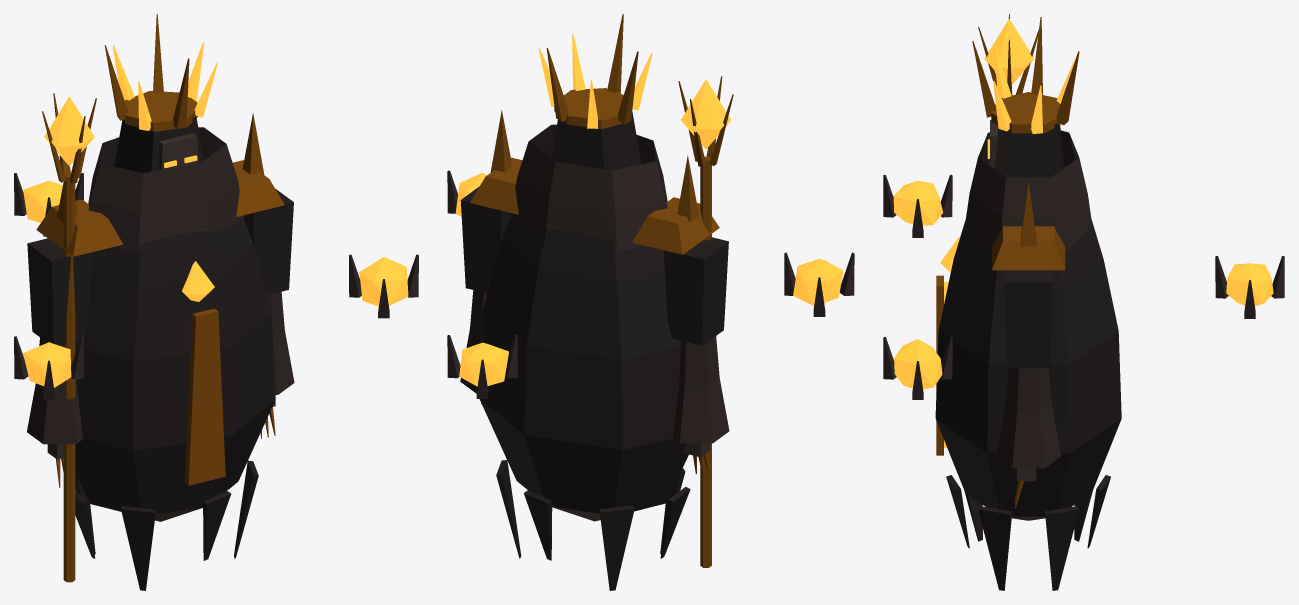
The model's file is ArautoDasCinzas.fbx.
3 renders of one model, left to right at view 1: azimuth 30°, elevation 25°; view 2: azimuth 150°, elevation 25°; view 3: azimuth 270°, elevation 25°, orthographic.
Visible parts, largest first — view 1: Body, ArmR, Head, ArmL, Orb2, Orb1, Orb0; view 2: Body, ArmR, Head, ArmL, Orb1, Orb0, Orb2; view 3: Body, ArmL, Head, Orb2, Orb1, Orb0, ArmR.
Part boxes in pixels (box(x1,y1,x2,y2)): Body: box(36, 112, 284, 590); ArmR: box(27, 93, 96, 582); Head: box(104, 14, 217, 172); ArmL: box(243, 188, 294, 438); Orb2: box(349, 254, 418, 318); Orb1: box(14, 336, 83, 400); Orb0: box(14, 173, 83, 236); Body: box(470, 110, 719, 590); ArmR: box(663, 76, 733, 567); Head: box(538, 14, 652, 170); ArmL: box(460, 186, 511, 403); Orb1: box(784, 252, 854, 316); Orb0: box(447, 335, 517, 398); Orb2: box(447, 170, 486, 216); Body: box(935, 130, 1121, 590); ArmL: box(996, 270, 1061, 508); Head: box(972, 17, 1079, 177); Orb2: box(883, 337, 952, 399); Orb1: box(883, 174, 952, 237); Orb0: box(1215, 256, 1284, 318); ArmR: box(978, 14, 1038, 95).
Size of the model in its own units: 2.32 by 2.98 by 2.08.
